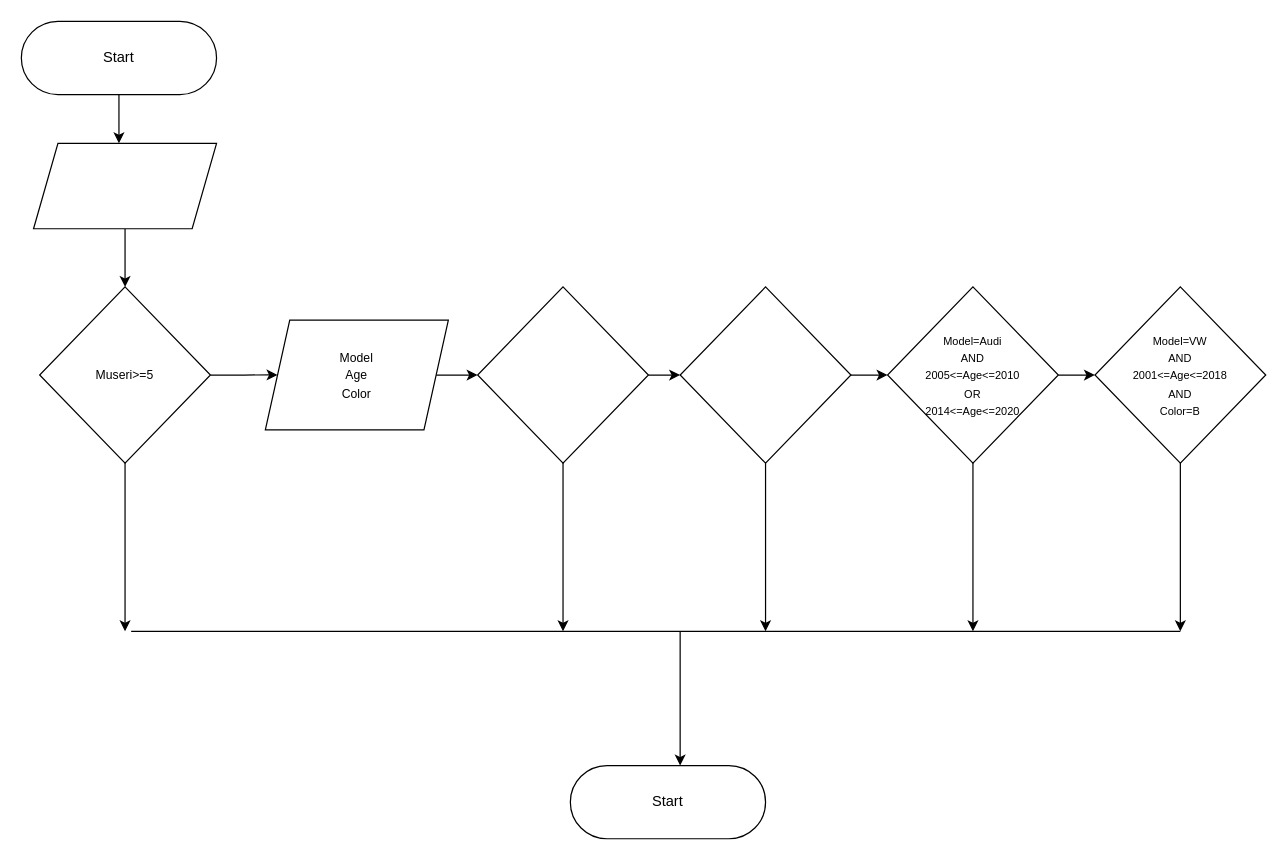
Image size: 1287x860. Some labels were removed from this diagram. Each missing label, with the box of its shape:
Model=BMW AND 2010<Age<2019 AND Color=R: (476, 286, 648, 463)
Model=BMW AND Age>=2020 AND Color=B: (679, 286, 851, 463)
Museri Girisi: (32, 142, 217, 229)
